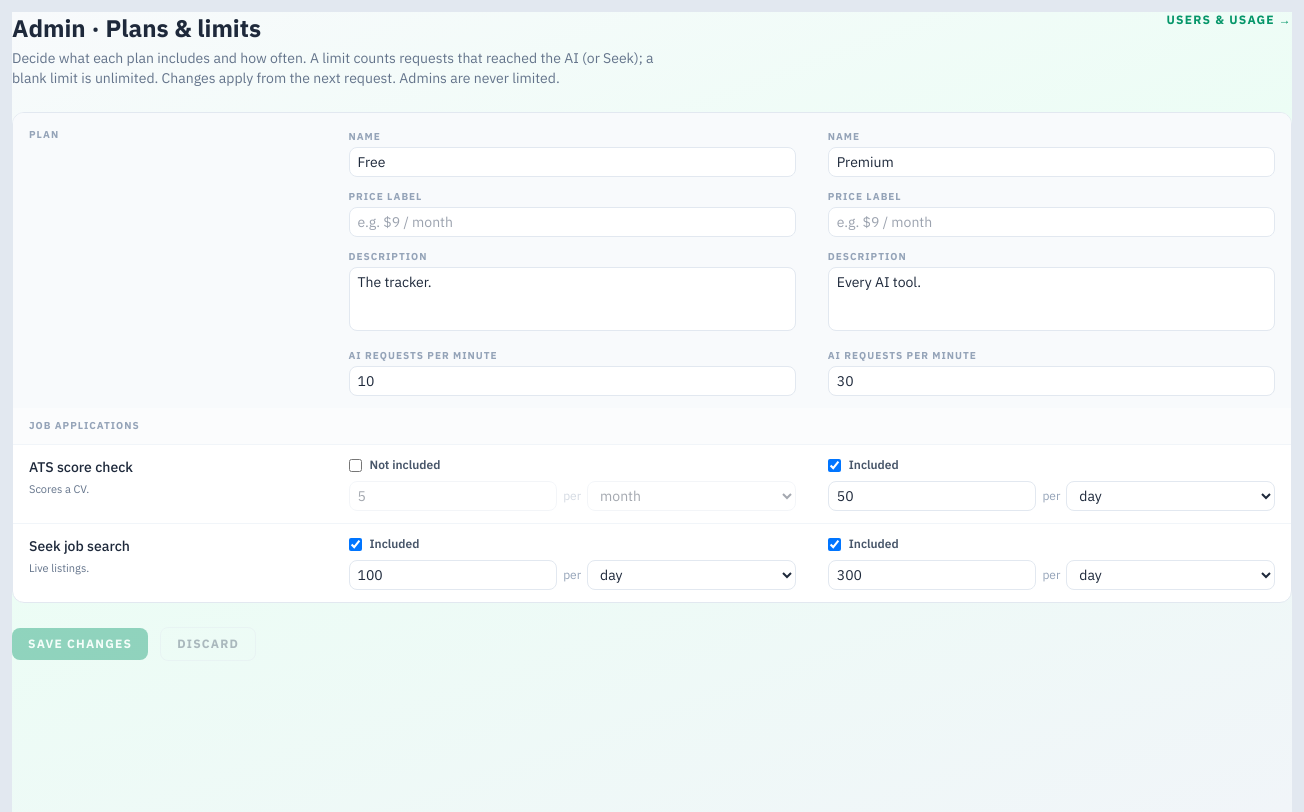
it: AdminPlansPage › puts an edit back with Discard
Step 1. Click the checkbox named "Seek job search on Free" → point(355, 544), box [348, 538, 362, 550]
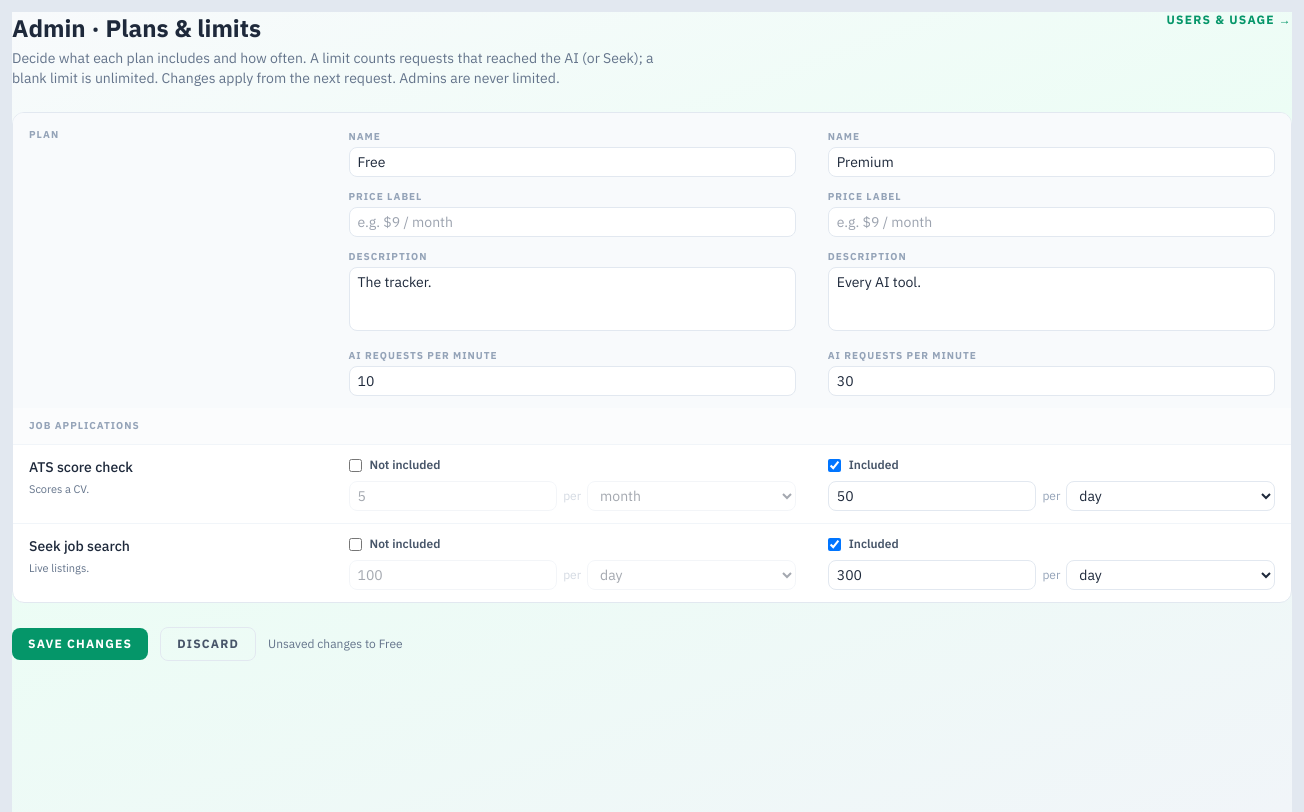
expect the text "Unsaved changes to Free" is shown: met, box [268, 636, 403, 652]
Step 2. Click the button "Discard" → point(208, 644), box [160, 627, 256, 661]
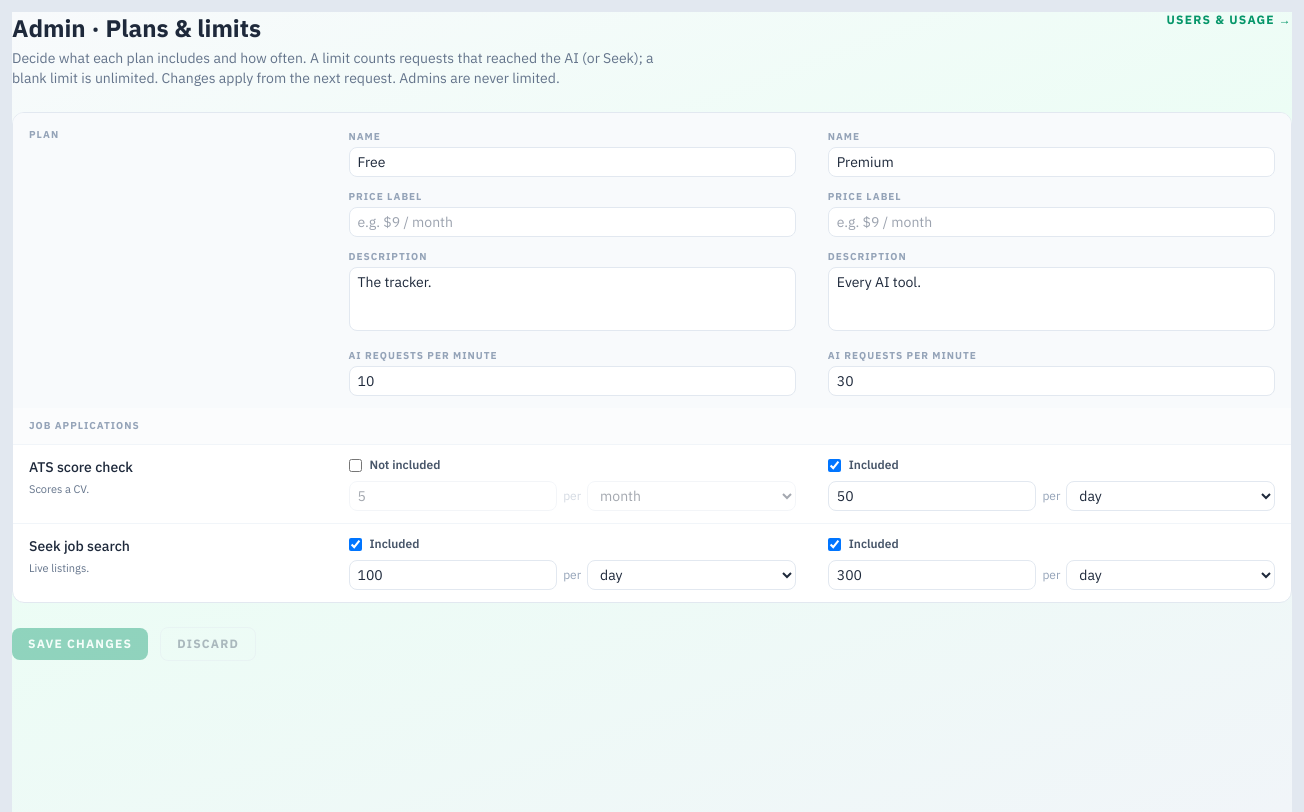
expect the checkbox named "Seek job search on Free" is checked: met, box [348, 538, 362, 550]
expect the text "Unsaved changes" is gone: met
